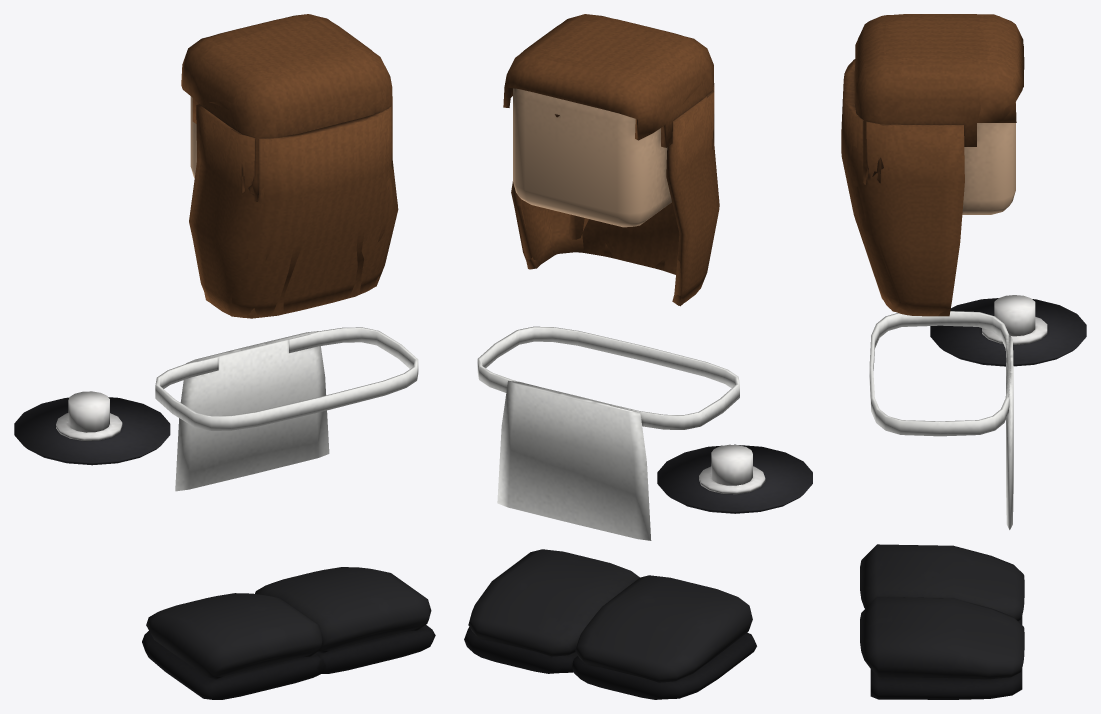
Rendered from Bloque_Oficio_Dani.fbx.
The picture shows the model from 3 angles, left to right: view 1: azimuth 30°, elevation 25°; view 2: azimuth 150°, elevation 25°; view 3: azimuth 270°, elevation 25°; orthographic projection.
Parts seen in each view (by area): view 1: Pelo, Delantal, ZapatoL, PeloLOD, ZapatoR, Bandeja; view 2: Delantal, Pelo, ZapatoL, CabezaBloque, ZapatoR, PeloLOD, Bandeja; view 3: Pelo, ZapatoR, PeloLOD, ZapatoL, Bandeja, Delantal, CabezaBloque.
Part boxes in pixels (x1,y1,x2,y2): Pelo: (181, 14, 397, 317); Delantal: (155, 327, 418, 491); ZapatoL: (142, 593, 325, 699); PeloLOD: (182, 14, 398, 318); ZapatoR: (255, 567, 435, 673); Bandeja: (14, 391, 170, 465); Delantal: (477, 326, 739, 540); Pelo: (503, 15, 719, 305); ZapatoL: (572, 575, 756, 699); CabezaBloque: (513, 88, 671, 227); ZapatoR: (464, 549, 639, 673); PeloLOD: (505, 14, 719, 306); Bandeja: (657, 444, 812, 513); Pelo: (841, 14, 1024, 316); ZapatoR: (860, 597, 1024, 699); PeloLOD: (841, 14, 1023, 316); ZapatoL: (860, 544, 1024, 624); Bandeja: (930, 295, 1086, 366); Delantal: (869, 311, 1013, 529); CabezaBloque: (962, 102, 1015, 214).
Size of the model in its own units: 325 by 541 by 198.
